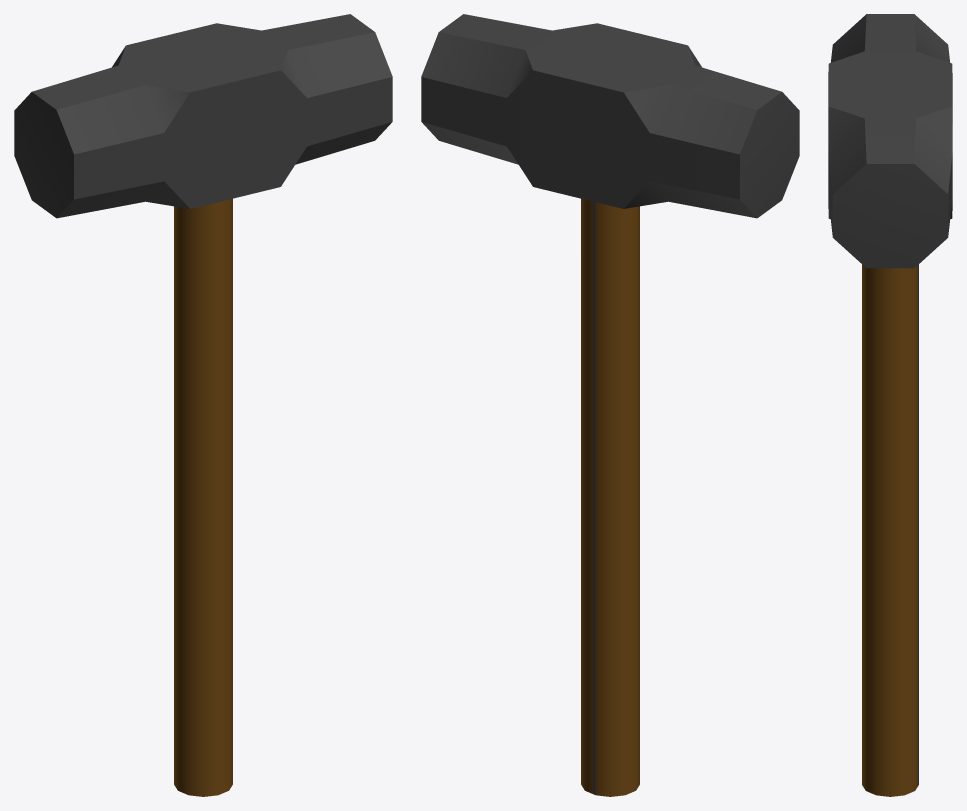
Rendered from Sledgehammer.fbx.
The picture shows the model from 3 angles, left to right: view 1: azimuth 30°, elevation 25°; view 2: azimuth 150°, elevation 25°; view 3: azimuth 270°, elevation 25°; orthographic projection. The views are drawn at different scales.
Visible parts, largest first — view 1: Cylinder; view 2: Cylinder; view 3: Cylinder.
Part boxes in pixels (x1,y1,x2,y2): Cylinder: (14,14,392,796); Cylinder: (421,14,799,796); Cylinder: (828,14,952,796).
Size of the model in its own units: 25.39 by 54.37 by 8.74.
